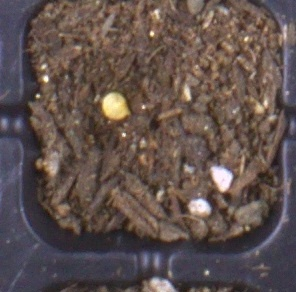chilli seed: (101, 91, 131, 121)
